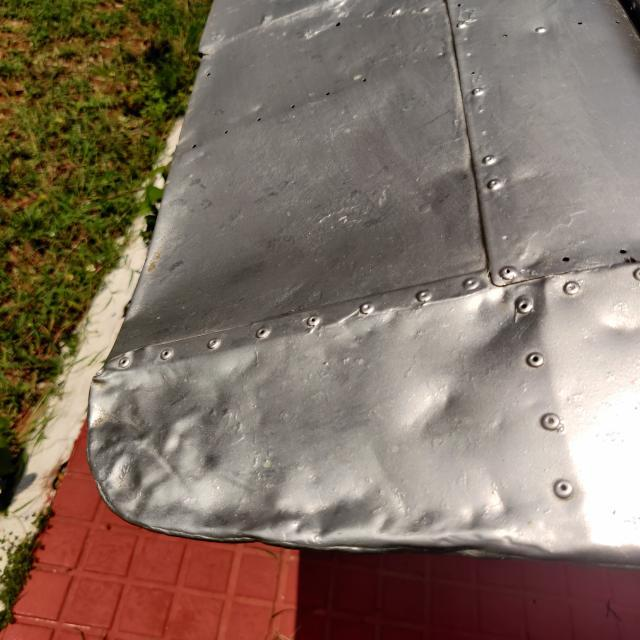dent: (215, 461, 556, 570), (77, 369, 243, 518), (457, 275, 551, 378), (386, 365, 480, 457), (582, 290, 640, 362)
